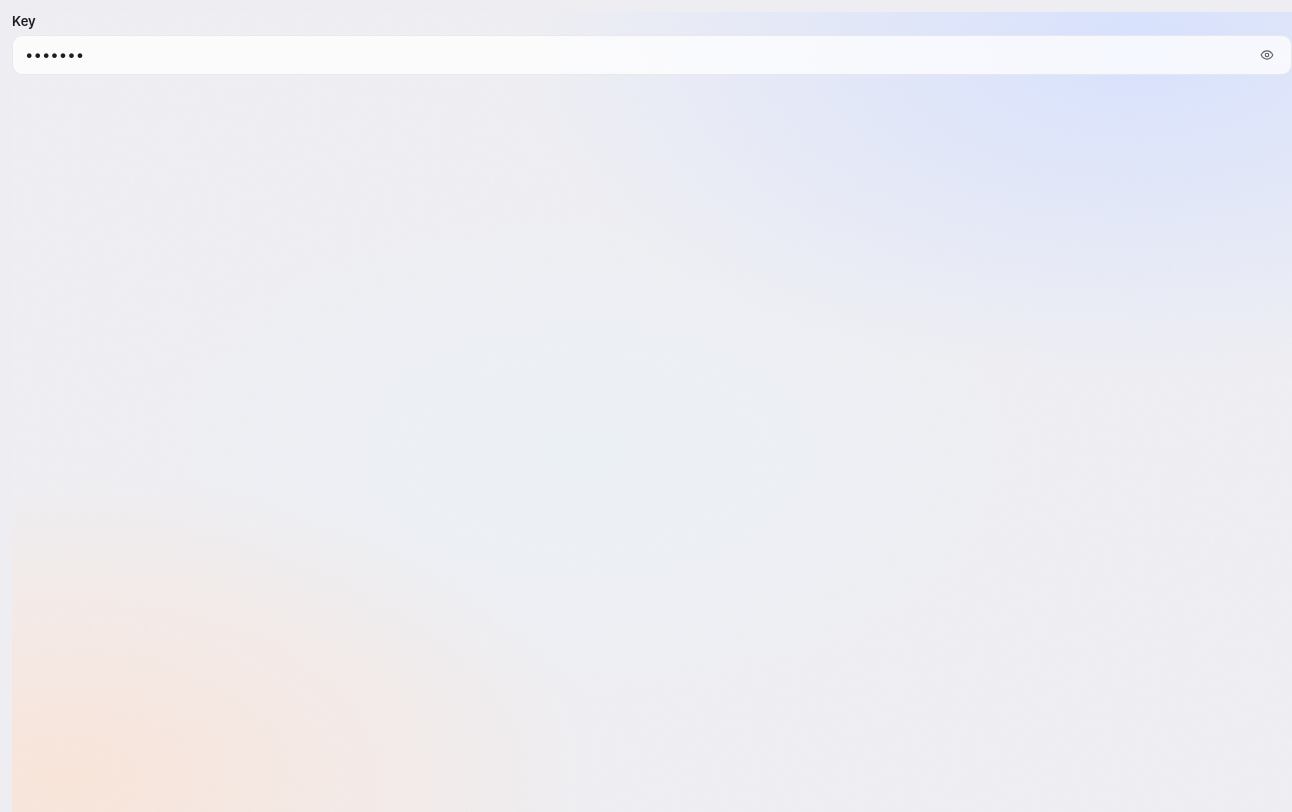
Test case: TextField › secret toggles visibility and keeps autocomplete off
Click the button named "Show" at (1267, 55), box [1255, 43, 1279, 67]
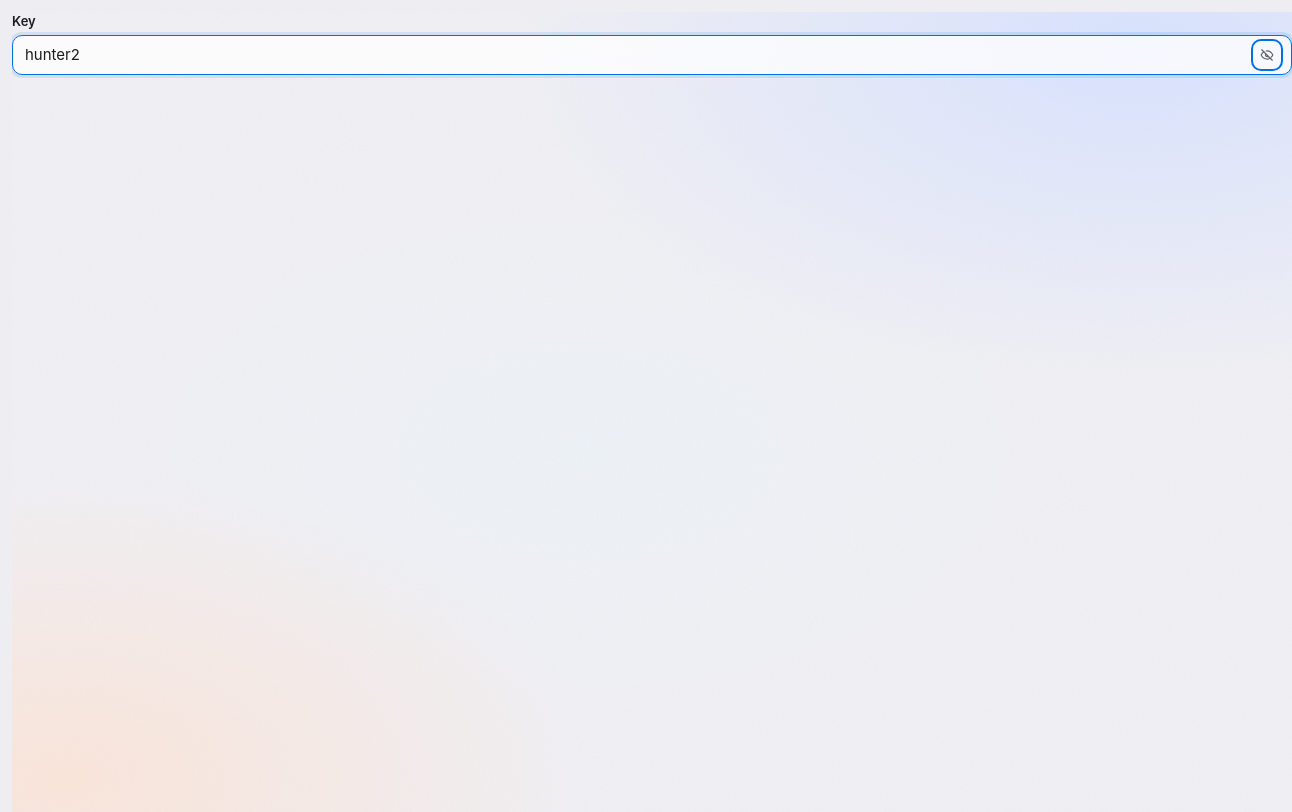
Check: the field labelled "Key" shows its text, box [25, 44, 1247, 66]
Click the button named "Show" at (1267, 55), box [1255, 43, 1279, 67]
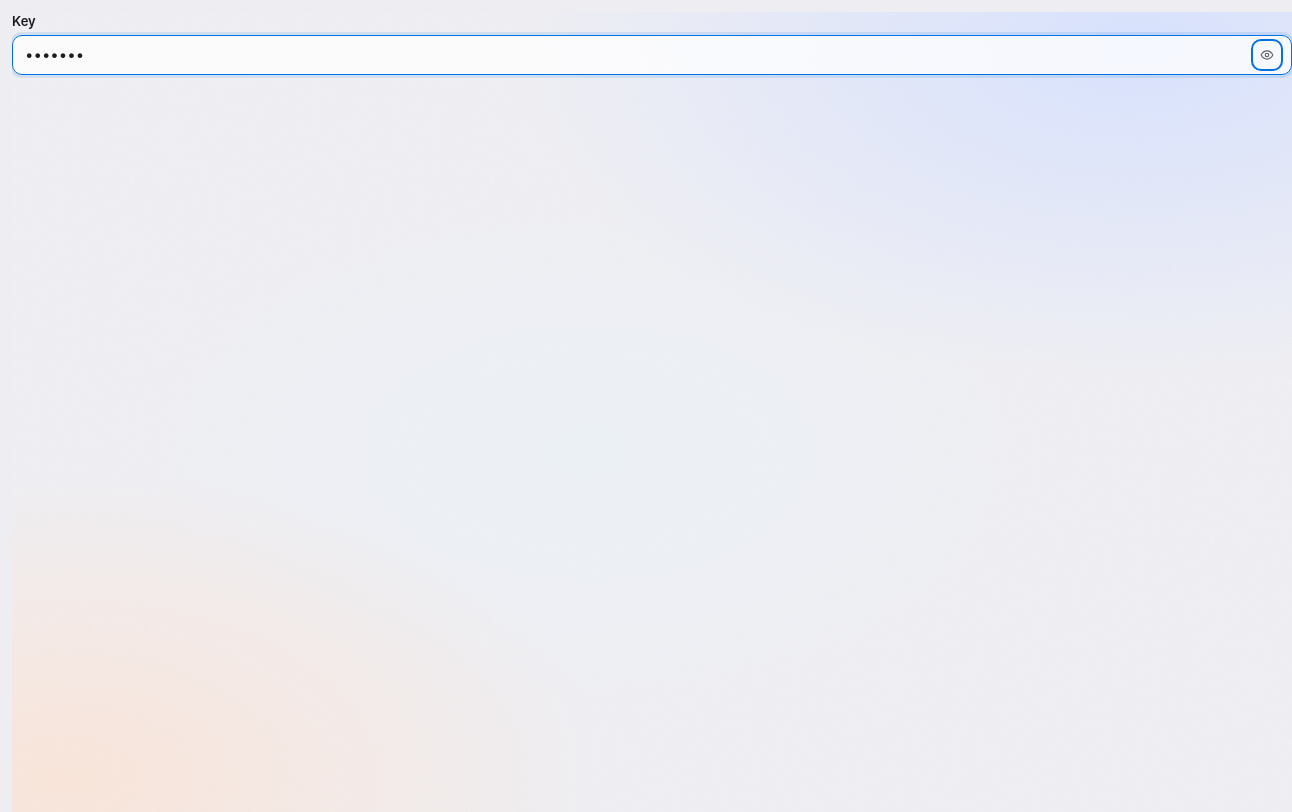
Check: the password field labelled "Key" hides its text, box [25, 44, 1247, 66]
